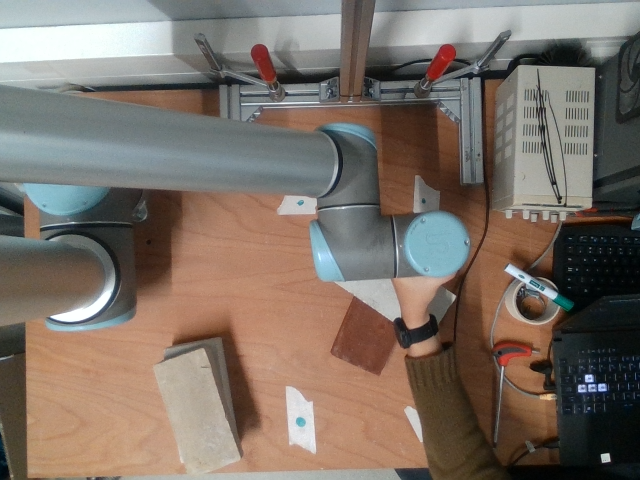brick: (155, 350, 238, 475)
